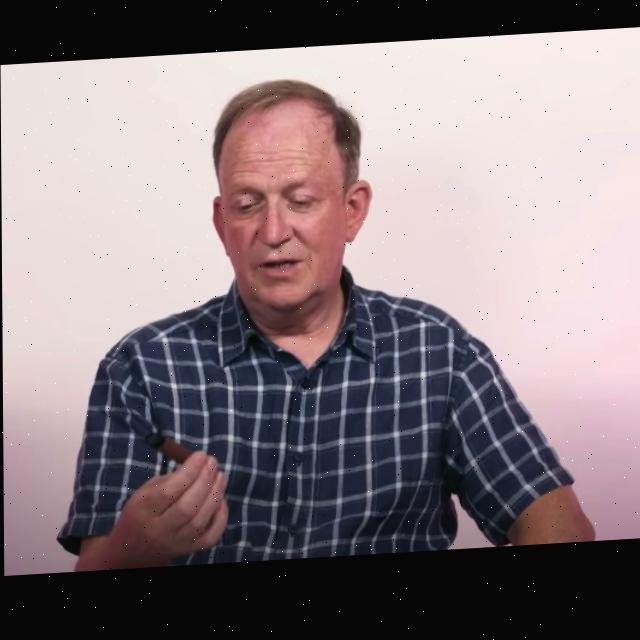vape: (144, 433, 194, 468)
